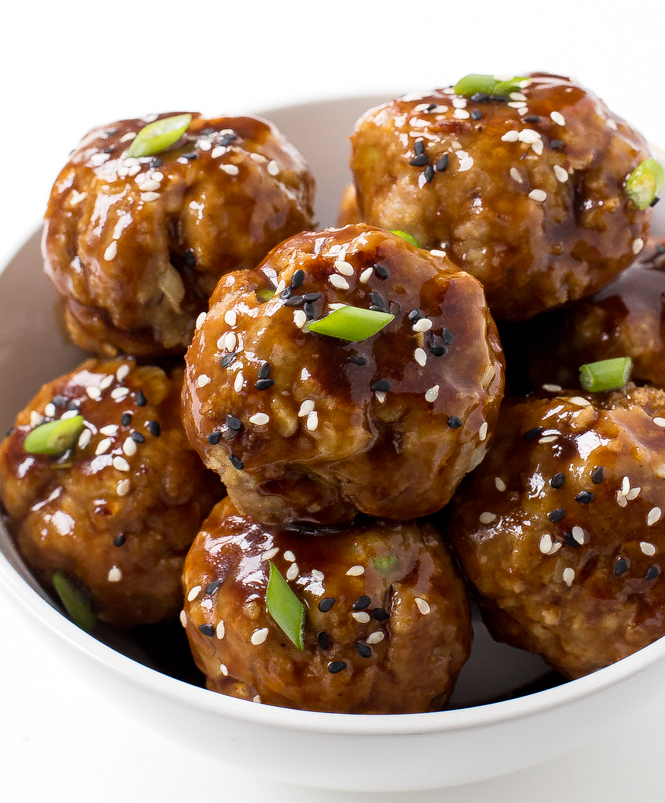meatballs: (197, 231, 491, 506), (365, 75, 640, 309), (49, 103, 291, 353), (188, 496, 458, 716), (4, 369, 213, 607), (486, 395, 665, 660)
